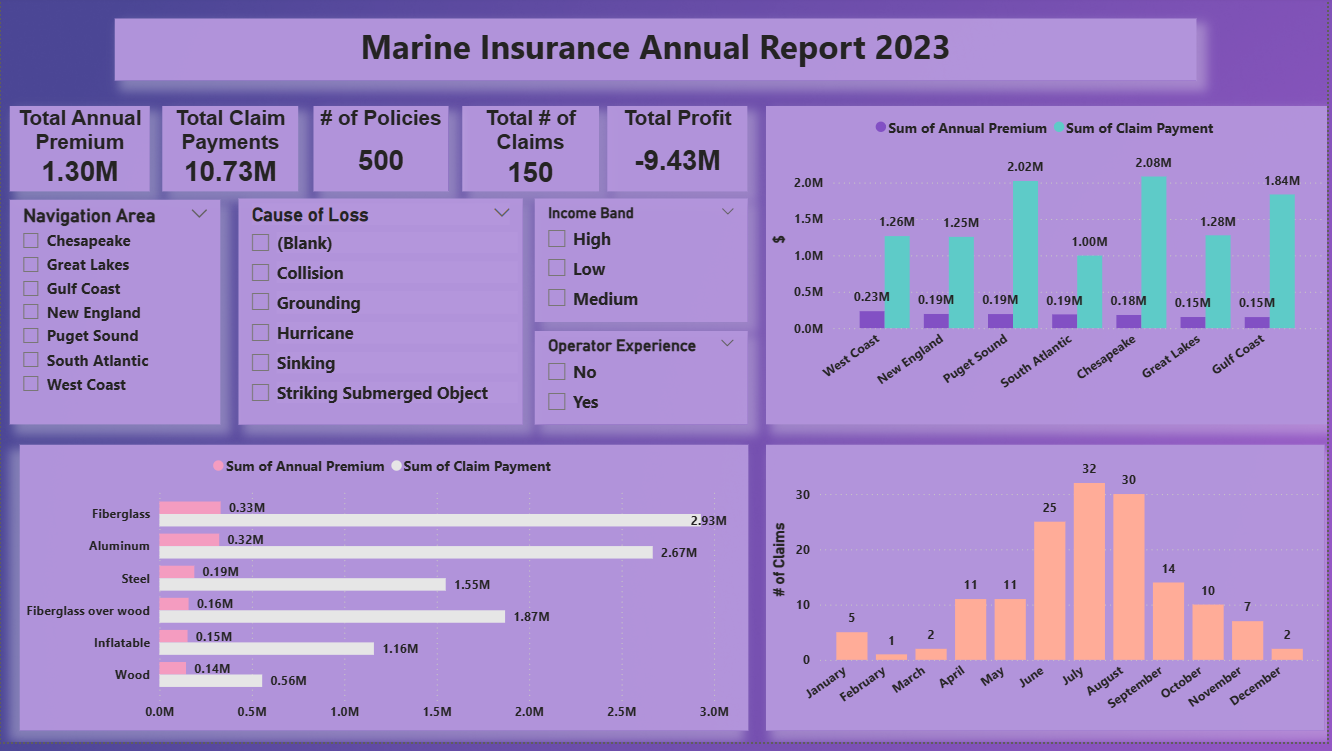

Layout of this report page (visuals, bound fields, positions):
{"tool":"powerbi","page":{"name":"Page 1","canvas":[1280,720],"ordinal":0},"visuals":[{"type":"textbox","box":[110.3,21.3,1044.3,60.2],"z":0},{"type":"card","title":"Total # of Claims","fields":{"Values":["CountNonNull(public claims.claim_id)"]},"box":[445.1,106.6,131.6,82.7],"z":1000},{"type":"card","title":"Total Annual Premium","fields":{"Values":["Sum(public policies.annual_premium)"]},"box":[8.8,106.5,135.3,82.7],"z":2000},{"type":"card","title":"Total Claim Payments","fields":{"Values":["Sum(public claims.claim_payment)"]},"box":[155.3,106.5,131.5,82.7],"z":3000},{"type":"card","title":"# of Policies","fields":{"Values":["CountNonNull(public policies.policy_id)"]},"box":[302.1,106.6,130.4,82.7],"z":4000},{"type":"card","title":"Total Profit","fields":{"Values":["public policies.Total Profit"]},"box":[585.5,106.6,135.4,82.7],"z":5000},{"type":"columnChart","fields":{"Category":["public claims.claim_date.Variation.Date Hierarchy.Month"],"Y":["CountNonNull(public claims.claim_id)"]},"box":[738.4,432.5,539.1,275.8],"z":6000},{"type":"slicer","fields":{"Values":["public claims.cause_of_loss"]},"box":[229.4,195.6,274.6,218.1],"z":7000},{"type":"clusteredBarChart","fields":{"Category":["public policies.hull_material"],"Y":["Sum(public policies.annual_premium)","Sum(public claims.claim_payment)"]},"box":[17.6,432.5,703.3,275.8],"z":7001},{"type":"slicer","fields":{"Values":["public customers.income_band"]},"box":[515.3,195.6,205.6,119.1],"z":7002},{"type":"slicer","fields":{"Values":["public customers.operator_experience"]},"box":[515.3,323.4,205.6,90.3],"z":7003},{"type":"clusteredColumnChart","fields":{"Category":["public policies.navigation_area"],"Y":["Sum(public policies.annual_premium)","Sum(public claims.claim_payment)"]},"box":[738.4,106.6,541.6,307.1],"z":7004},{"type":"slicer","fields":{"Values":["public policies.navigation_area"]},"box":[8.8,196.8,203.1,216.9],"z":7005}]}

Visuals, with their boxes in screenshot pixels (x1, y1, x2, y2), scaled from the page's 1280x720 canvas onto the 1332x751 screenshot:
textbox: (115,22,1202,85)
"Total # of Claims" card: (463,111,600,197)
"Total Annual Premium" card: (9,111,150,197)
"Total Claim Payments" card: (162,111,298,197)
"# of Policies" card: (314,111,450,197)
"Total Profit" card: (609,111,750,197)
columnChart - public claims.claim_date.Variation.Date Hierarchy.Month x CountNonNull(public claims.claim_id): (768,451,1329,739)
slicer - public claims.cause_of_loss: (239,204,524,432)
clusteredBarChart - public policies.hull_material x Sum(public policies.annual_premium): (18,451,750,739)
slicer - public customers.income_band: (536,204,750,328)
slicer - public customers.operator_experience: (536,337,750,432)
clusteredColumnChart - public policies.navigation_area x Sum(public policies.annual_premium): (768,111,1331,432)
slicer - public policies.navigation_area: (9,205,221,432)
